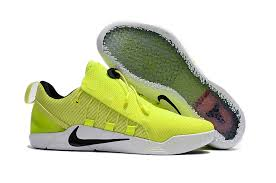nike: (70, 124, 130, 150)
